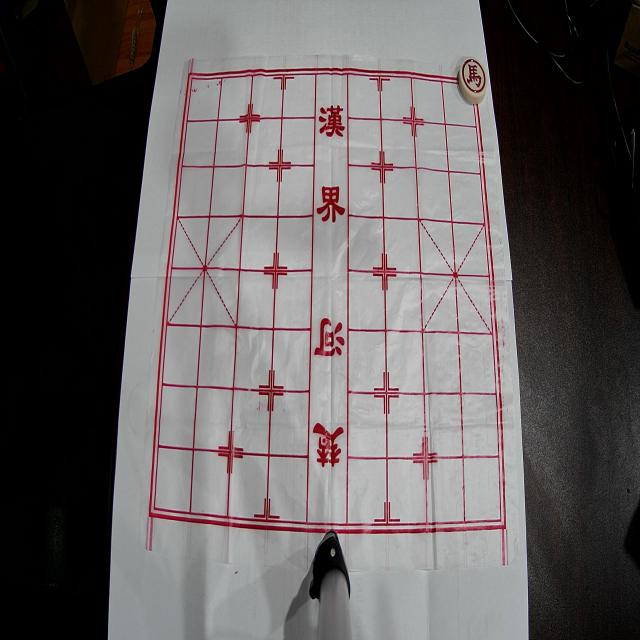red-horse: (458, 56, 488, 104)
